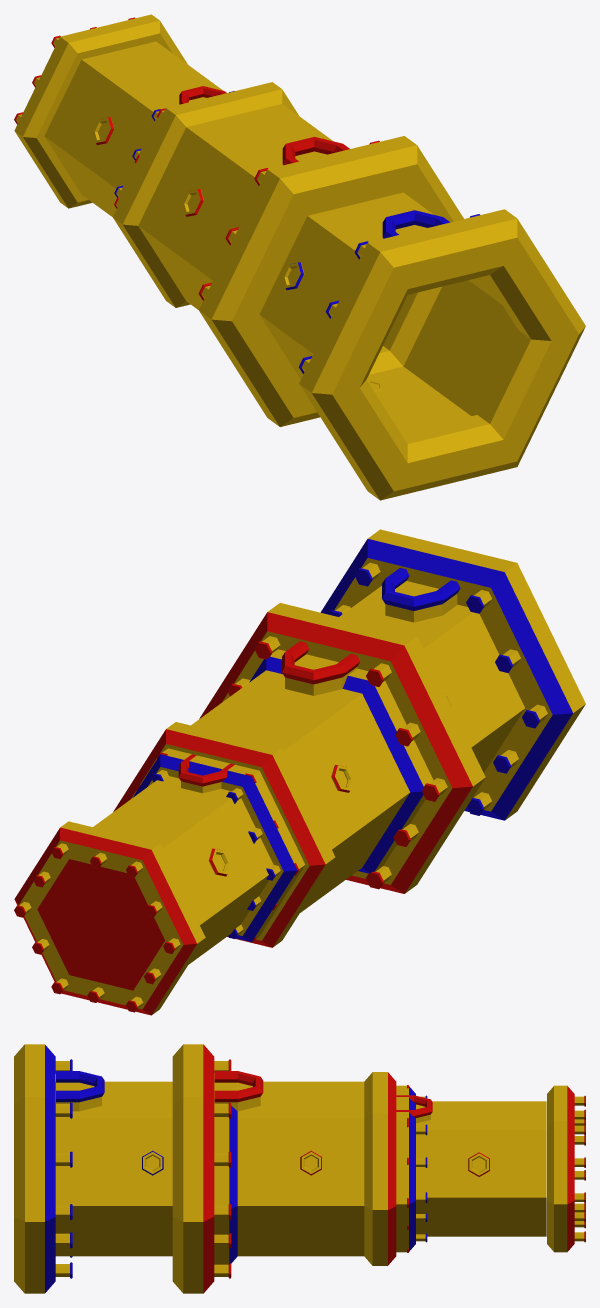
The model's file is Watch_Tower_Player_Red.fbx.
3 views of the same model, one above another, from view 1: azimuth 30°, elevation 25°; view 2: azimuth 150°, elevation 25°; view 3: azimuth 270°, elevation 25° (orthographic). The views are drawn at different scales.
Visible parts, largest first — view 1: Hive_Tower_Player_Red, Watch_Tower_Player_Blue; view 2: Hive_Tower_Player_Red, Watch_Tower_Player_Blue; view 3: Hive_Tower_Player_Red, Watch_Tower_Player_Blue.
Part boxes in pixels (x1,y1,x2,y2): Hive_Tower_Player_Red: (14, 14, 463, 426); Watch_Tower_Player_Blue: (114, 91, 585, 500); Hive_Tower_Player_Red: (14, 603, 485, 1015); Watch_Tower_Player_Blue: (132, 529, 585, 941); Hive_Tower_Player_Red: (172, 1044, 585, 1293); Watch_Tower_Player_Blue: (14, 1044, 427, 1293).
Size of the model in its own units: 250 by 217 by 571.
